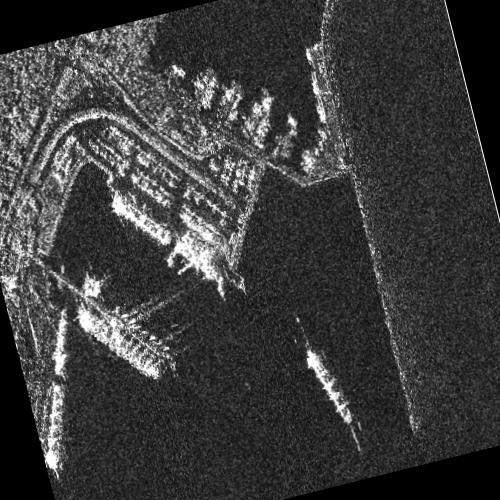ship: (77, 306, 161, 382), (307, 349, 355, 425), (111, 190, 173, 247), (46, 381, 65, 473), (53, 307, 69, 376)
